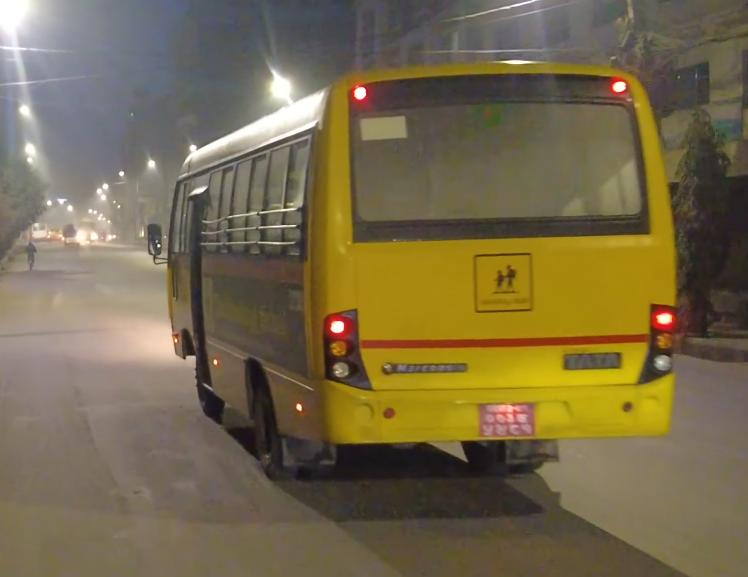school_bus: (144, 60, 685, 487)
